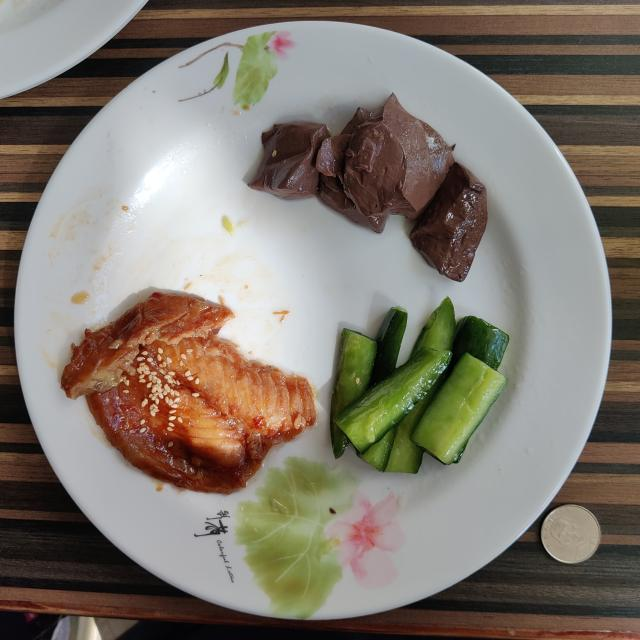Kabayaki sea bream fillet: (61, 292, 316, 494)
coin: (541, 505, 601, 564)
cucumber: (331, 298, 509, 474)
pig blood curd: (249, 94, 488, 281)
